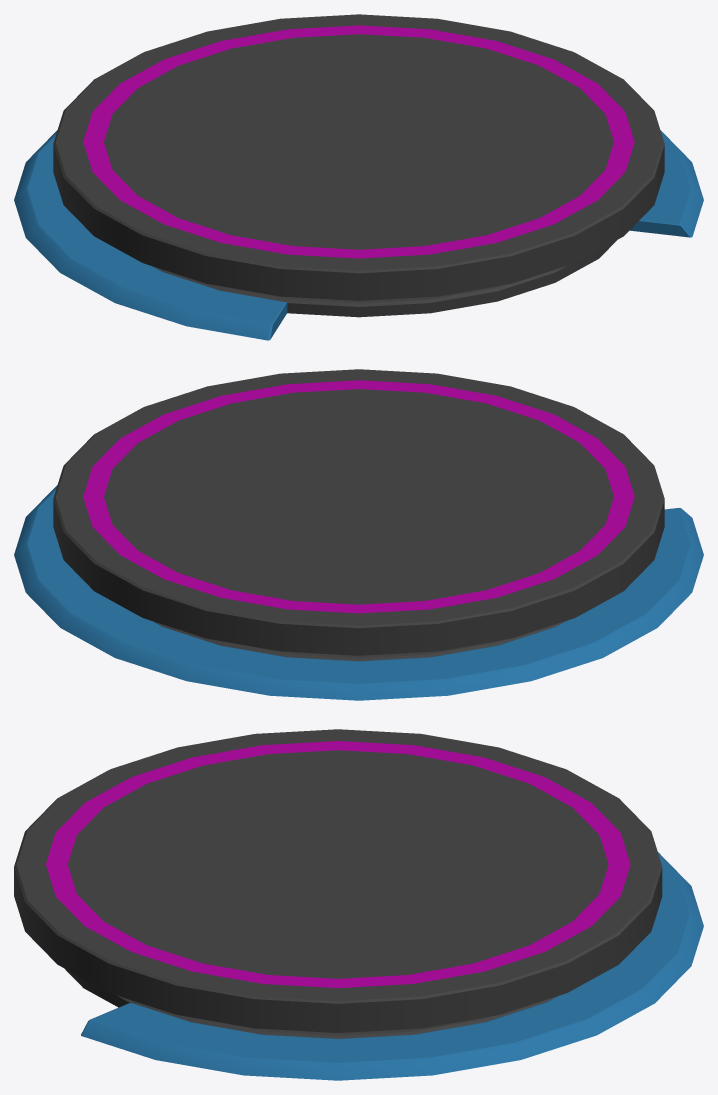
Rendered from DJplan01.FBX.
The picture shows the model from 3 angles, top to bottom: view 1: azimuth 30°, elevation 25°; view 2: azimuth 150°, elevation 25°; view 3: azimuth 270°, elevation 25°; orthographic projection. The views are drawn at different scales.
Visible parts, largest first — view 1: DJplan01, DJplan02; view 2: DJplan01, DJplan02; view 3: DJplan01, DJplan02.
Part boxes in pixels (x1=…): DJplan01: x1=14, y1=14, x2=703, y2=340; DJplan02: x1=83, y1=25, x2=634, y2=258; DJplan01: x1=14, y1=369, x2=703, y2=700; DJplan02: x1=83, y1=380, x2=634, y2=613; DJplan01: x1=14, y1=729, x2=703, y2=1080; DJplan02: x1=46, y1=741, x2=630, y2=987.
Bounding box in the file's own units: 60.95 × 5.66 × 57.49.
